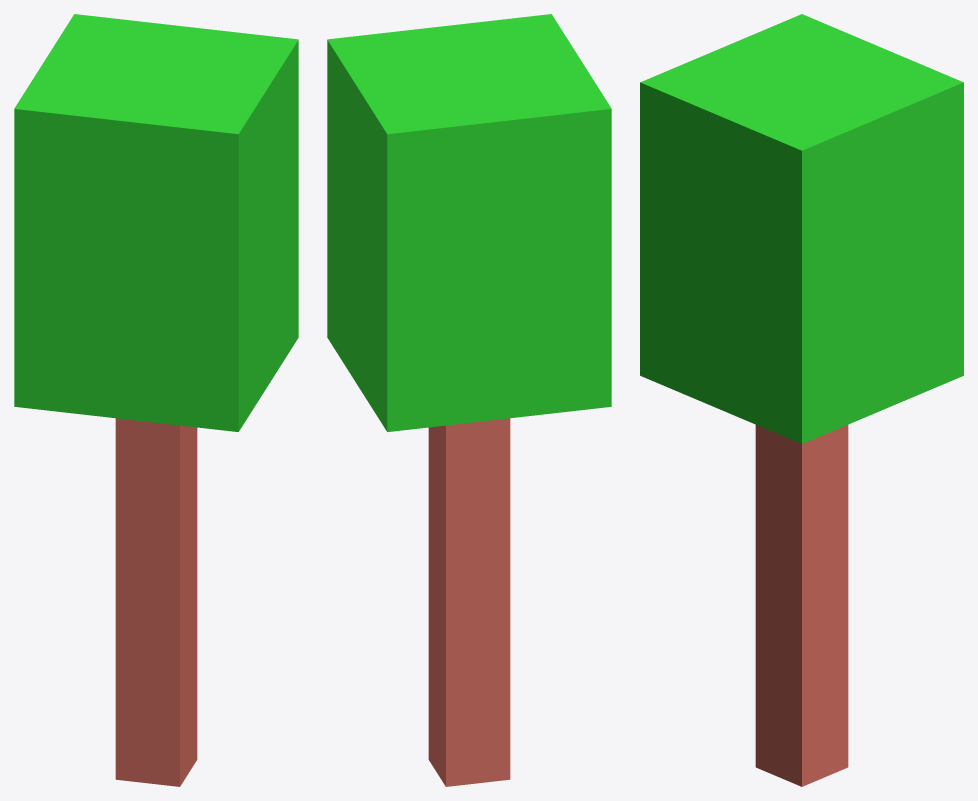
Rendered from LittleTree.fbx.
3 renders of one model, left to right at view 1: azimuth 30°, elevation 25°; view 2: azimuth 150°, elevation 25°; view 3: azimuth 270°, elevation 25°, orthographic.
Parts seen in each view (by area): view 1: 参数柱体.002; view 2: 参数柱体.002; view 3: 参数柱体.002.
Part boxes in pixels (x1,y1,x2,y2): 参数柱体.002: (14,14,298,786); 参数柱体.002: (327,14,611,786); 参数柱体.002: (640,14,963,786).
Bounding box in the file's own units: 2 × 4.67 × 2.
